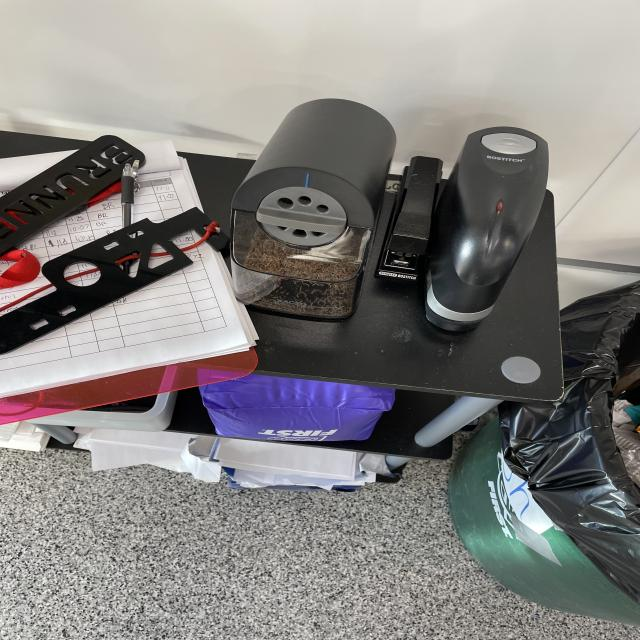frc_cube: (192, 357, 388, 452)
